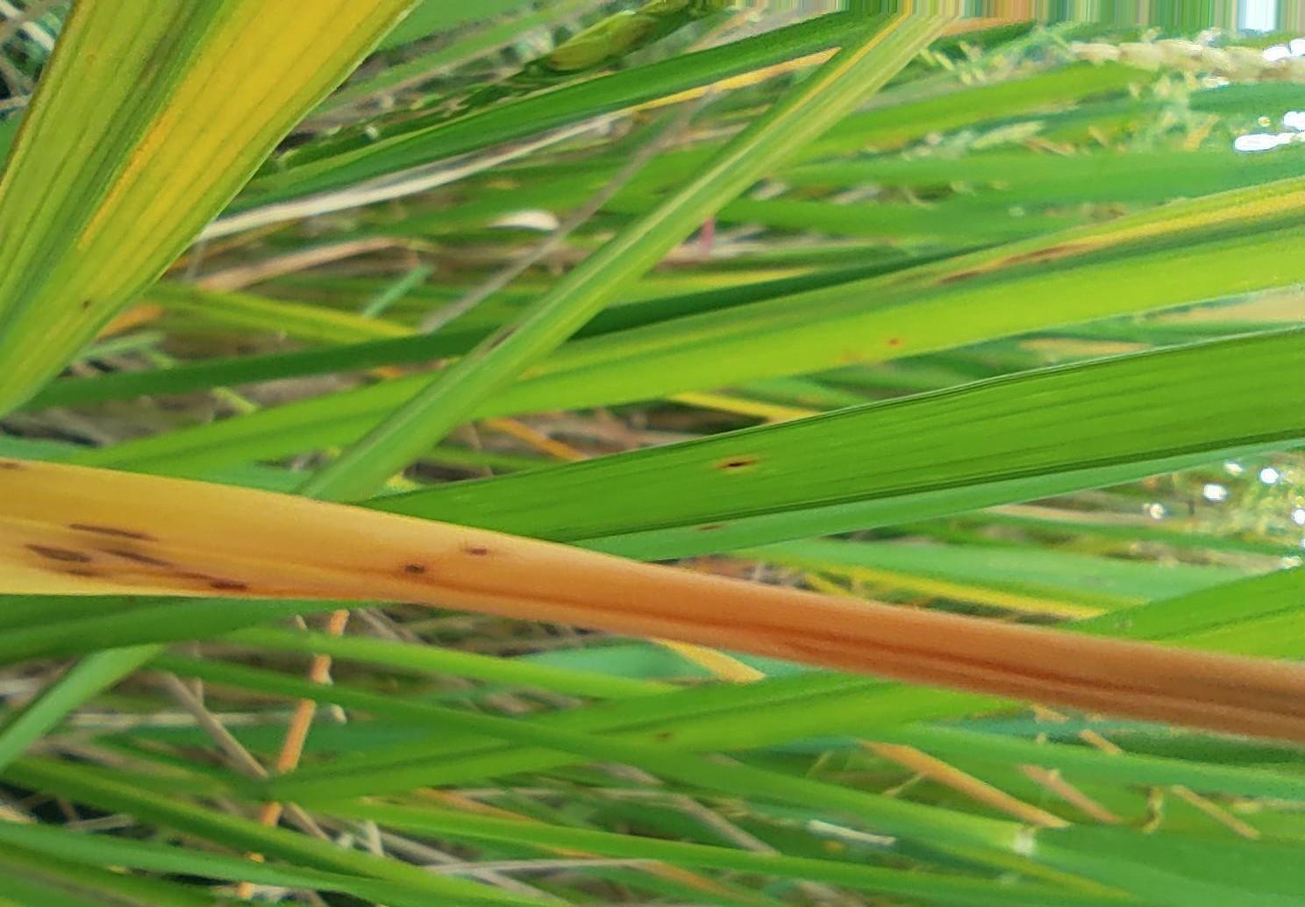LEAF: (0, 458, 1304, 741)
NBS: (66, 522, 158, 542), (92, 549, 170, 566), (25, 544, 92, 562), (211, 581, 247, 591), (64, 568, 91, 577), (0, 462, 27, 471), (405, 563, 425, 574), (461, 549, 486, 557)
